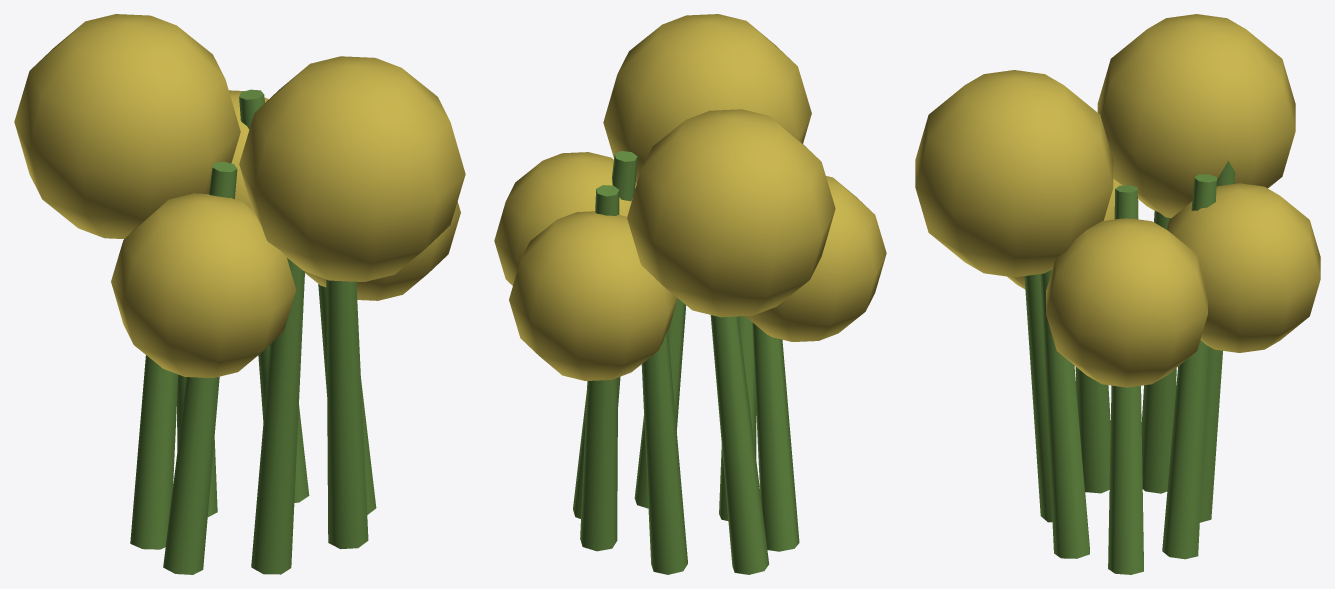
File: crop_wheat_mature.glb
3 views of the same model, side by side, from view 1: azimuth 30°, elevation 25°; view 2: azimuth 150°, elevation 25°; view 3: azimuth 270°, elevation 25° (orthographic). The views are drawn at different scales.
Parts seen in each view (by area): view 1: produce_1, produce_3, produce_2, stem_2, stem_1, stem_3, stem_4, produce_0, stem_6, stem_0, produce_4, stem_5; view 2: produce_3, produce_4, produce_1, produce_2, stem_4, produce_0, stem_5, stem_3, stem_6, stem_1, stem_0, stem_2; view 3: produce_1, produce_3, produce_0, produce_4, stem_6, stem_1, stem_0, stem_4, stem_2, stem_3, stem_5.
Part boxes in pixels (x1,y1,x2,y2): produce_1: (239, 56, 465, 281); produce_3: (14, 14, 240, 238); produce_2: (111, 193, 296, 378); stem_2: (251, 258, 304, 574); stem_1: (326, 279, 368, 549); stem_3: (163, 161, 237, 574); stem_4: (130, 355, 178, 549); produce_0: (305, 201, 460, 300); stem_6: (239, 89, 309, 502); stem_0: (318, 284, 376, 514); produce_4: (229, 90, 268, 208); stem_5: (177, 374, 217, 516); produce_3: (627, 109, 835, 317); produce_4: (509, 211, 677, 380); produce_1: (603, 14, 811, 183); produce_2: (745, 176, 886, 341); stem_4: (710, 315, 768, 574); produce_0: (494, 152, 636, 285); stem_5: (641, 329, 687, 574); stem_3: (752, 322, 799, 551); stem_6: (580, 185, 619, 551); stem_1: (634, 298, 686, 508); stem_0: (573, 151, 637, 518); stem_2: (719, 316, 756, 520); produce_1: (915, 70, 1113, 277); produce_3: (1097, 14, 1295, 217); produce_0: (1046, 218, 1207, 387); produce_4: (1166, 183, 1320, 352); stem_6: (1162, 174, 1216, 559); stem_1: (1040, 269, 1089, 558); stem_0: (1108, 185, 1143, 574); stem_4: (1141, 210, 1176, 493); stem_2: (1024, 274, 1052, 522); stem_3: (1075, 367, 1110, 493); stem_5: (1200, 161, 1235, 522).
Size of what is drawn, in the model's own units: 0.8523 by 1.08 by 0.856.
